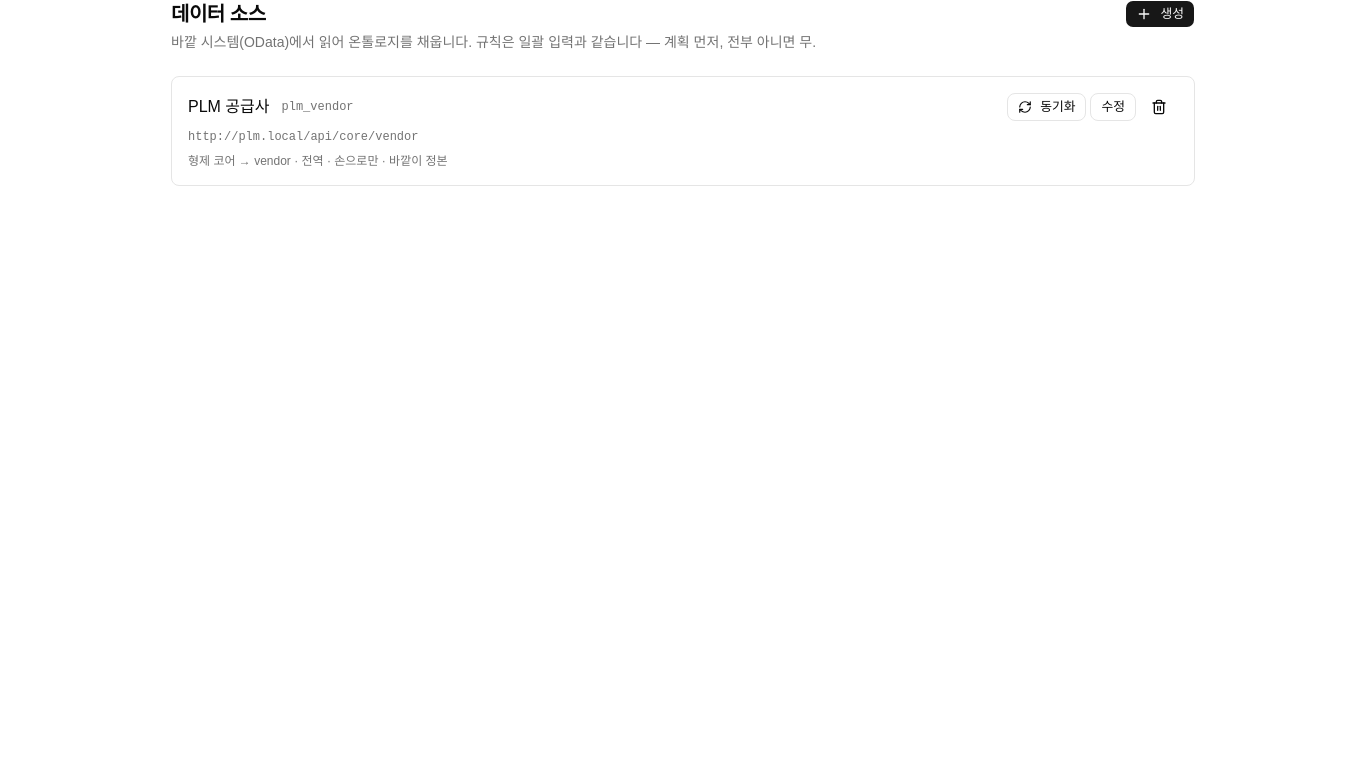
데이터 소스의 출처 이름 › 잠긴 타입이면 적을 이름을 말한다 — 실패한 뒤에 알게 하지 않는다
Click the button "수정". click: x=1113, y=107
box: x1=1090 y1=93 x2=1136 y2=121
(page scrolled)
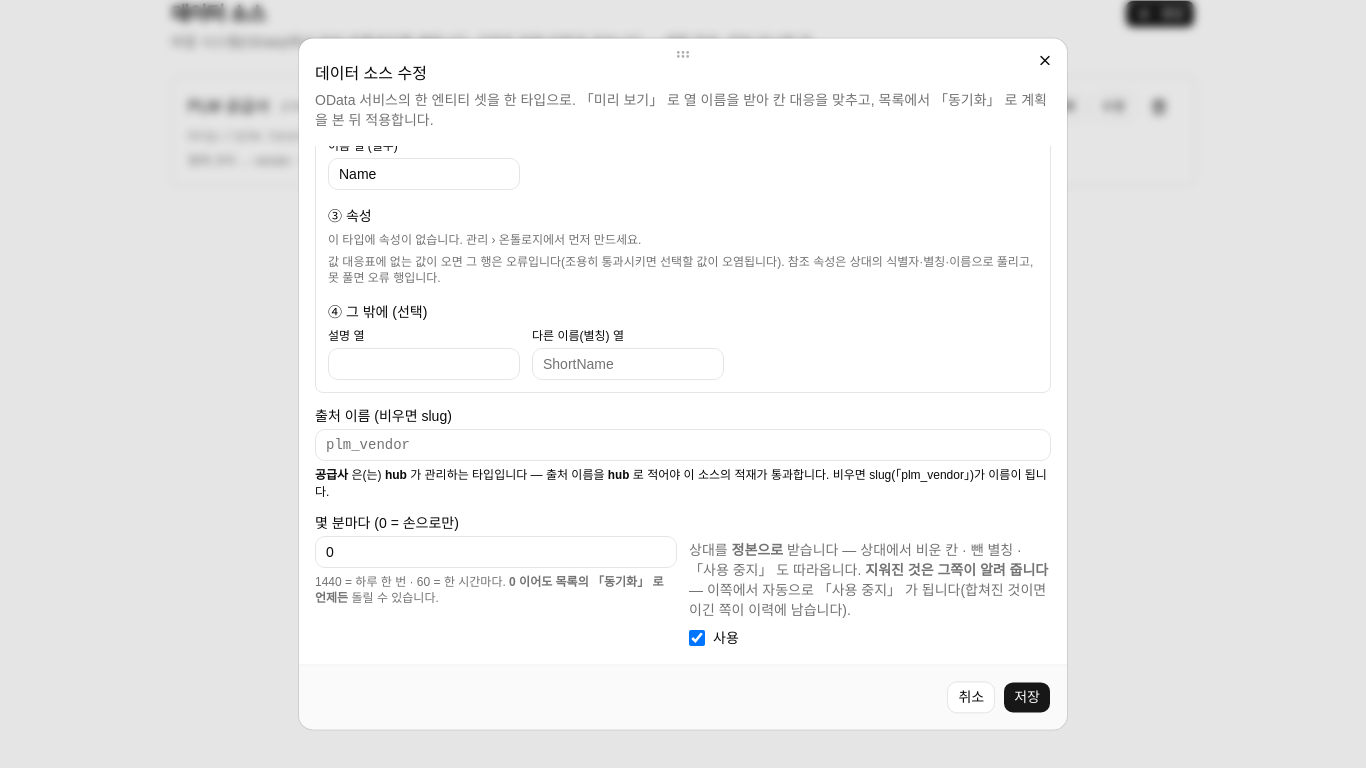
Check: the text "관리하는 타입입니다" is shown, box x1=407 y1=468 x2=608 y2=482
Check: the text "비우면 slug(「plm_vendor」)가 이름이 됩니다" is shown, box x1=315 y1=468 x2=1047 y2=499
